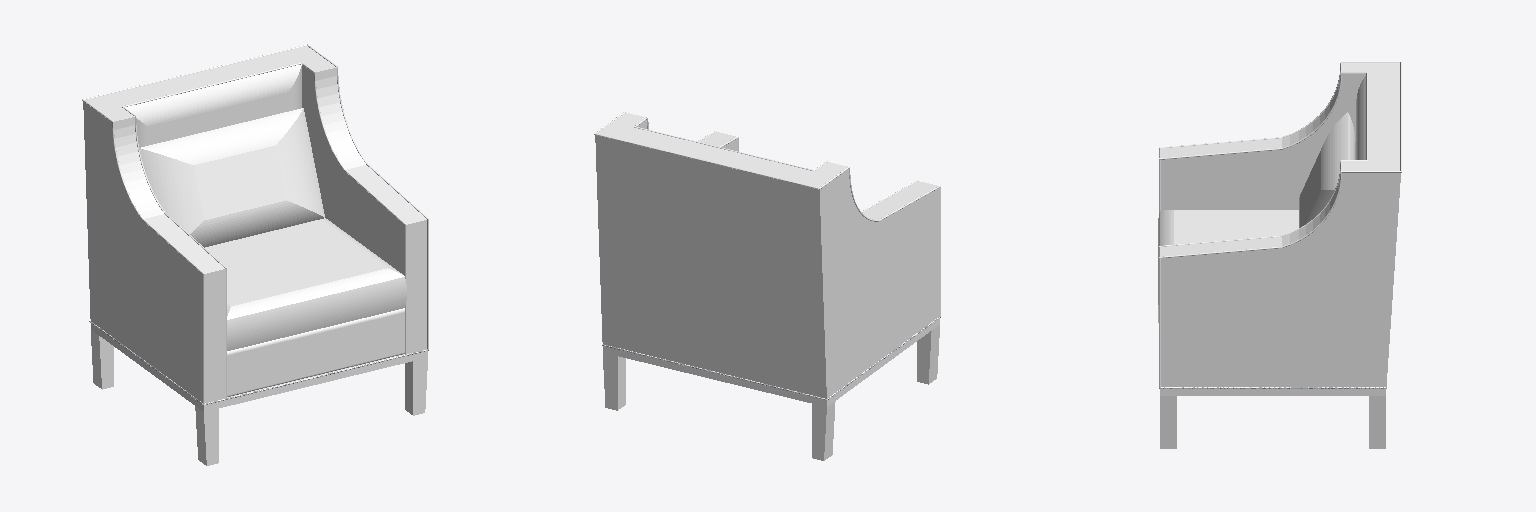
The model's file is chair.obj.
3 renders of one model, left to right at view 1: azimuth 30°, elevation 25°; view 2: azimuth 150°, elevation 25°; view 3: azimuth 270°, elevation 25°, orthographic.
Visible parts, largest first — view 1: Mesh3 Vastu___Benjamin_Chair___Body1 Vastu___Benjamin_Chair1 Lou, Mesh1 G_16in_x_16in_Pillow1 Lounge_Chair1 Model, Mesh5 Component_33_1 Vastu___Benjamin_Chair1 Lounge_Chair1 Model; view 2: Mesh3 Vastu___Benjamin_Chair___Body1 Vastu___Benjamin_Chair1 Lou, Mesh5 Component_33_1 Vastu___Benjamin_Chair1 Lounge_Chair1 Model; view 3: Mesh3 Vastu___Benjamin_Chair___Body1 Vastu___Benjamin_Chair1 Lou, Mesh5 Component_33_1 Vastu___Benjamin_Chair1 Lounge_Chair1 Model, Mesh1 G_16in_x_16in_Pillow1 Lounge_Chair1 Model.
Part boxes in pixels (x1,y1,x2,y2): Mesh3 Vastu___Benjamin_Chair___Body1 Vastu___Benjamin_Chair1 Lou: (82,44,428,403); Mesh1 G_16in_x_16in_Pillow1 Lounge_Chair1 Model: (139,108,324,247); Mesh5 Component_33_1 Vastu___Benjamin_Chair1 Lounge_Chair1 Model: (89,321,428,465); Mesh3 Vastu___Benjamin_Chair___Body1 Vastu___Benjamin_Chair1 Lou: (594,111,940,398); Mesh5 Component_33_1 Vastu___Benjamin_Chair1 Lounge_Chair1 Model: (602,316,940,460); Mesh3 Vastu___Benjamin_Chair___Body1 Vastu___Benjamin_Chair1 Lou: (1158,62,1401,387); Mesh5 Component_33_1 Vastu___Benjamin_Chair1 Lounge_Chair1 Model: (1159,387,1386,448); Mesh1 G_16in_x_16in_Pillow1 Lounge_Chair1 Model: (1299,112,1355,227).
Size of the model in its own units: 0.767 by 0.9064 by 0.7185.